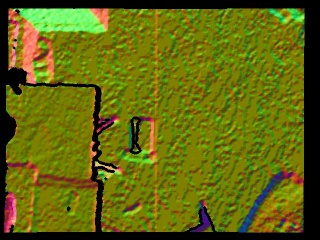station: (128, 116, 154, 155)
